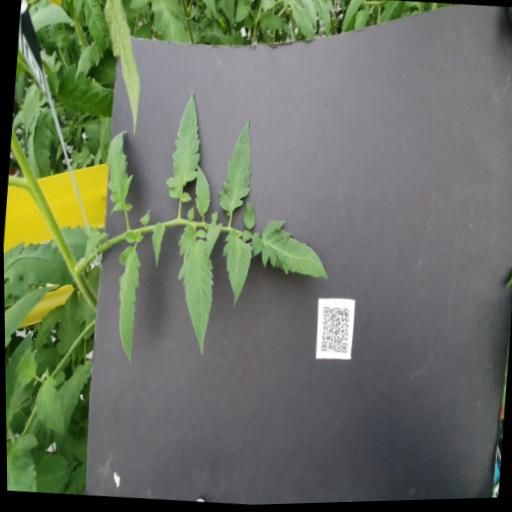Healthy: (92, 0, 149, 136), (168, 224, 219, 363), (248, 216, 332, 283), (163, 88, 206, 203), (3, 281, 56, 364), (109, 244, 143, 364), (216, 117, 256, 218), (3, 237, 78, 290), (101, 127, 140, 218), (55, 61, 115, 120), (61, 0, 116, 60), (216, 228, 255, 309), (31, 372, 70, 435), (52, 286, 84, 357), (148, 0, 194, 46), (190, 163, 214, 218), (20, 81, 41, 140), (203, 220, 223, 270), (148, 221, 166, 269), (258, 11, 286, 36), (242, 199, 256, 229), (234, 0, 250, 25), (127, 0, 152, 12)
